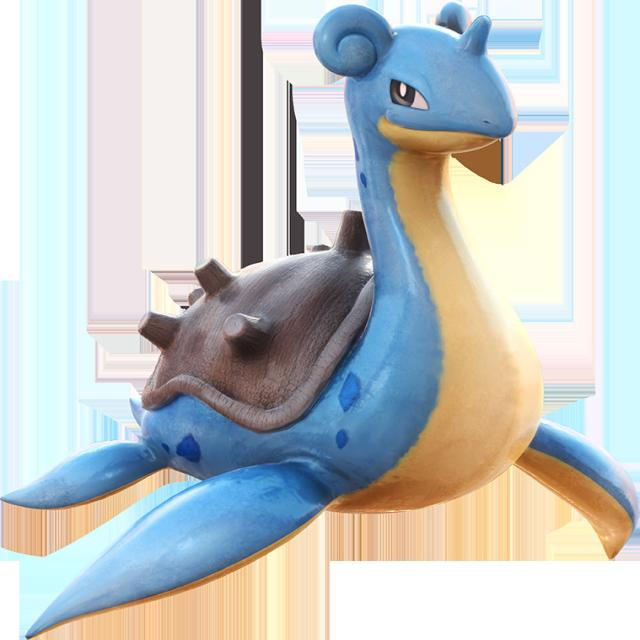Lapras: (121, 6, 543, 488)
